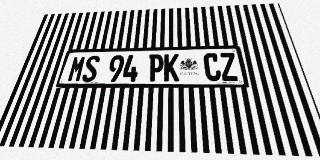4: (122, 55, 139, 82)
9: (107, 55, 125, 82)
C: (203, 53, 222, 81)
K: (164, 54, 179, 81)
M: (67, 56, 87, 82)
P: (148, 54, 164, 81)
S: (81, 55, 101, 82)
Z: (219, 52, 239, 81)
